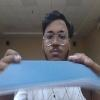notebook: (0, 59, 99, 99)
